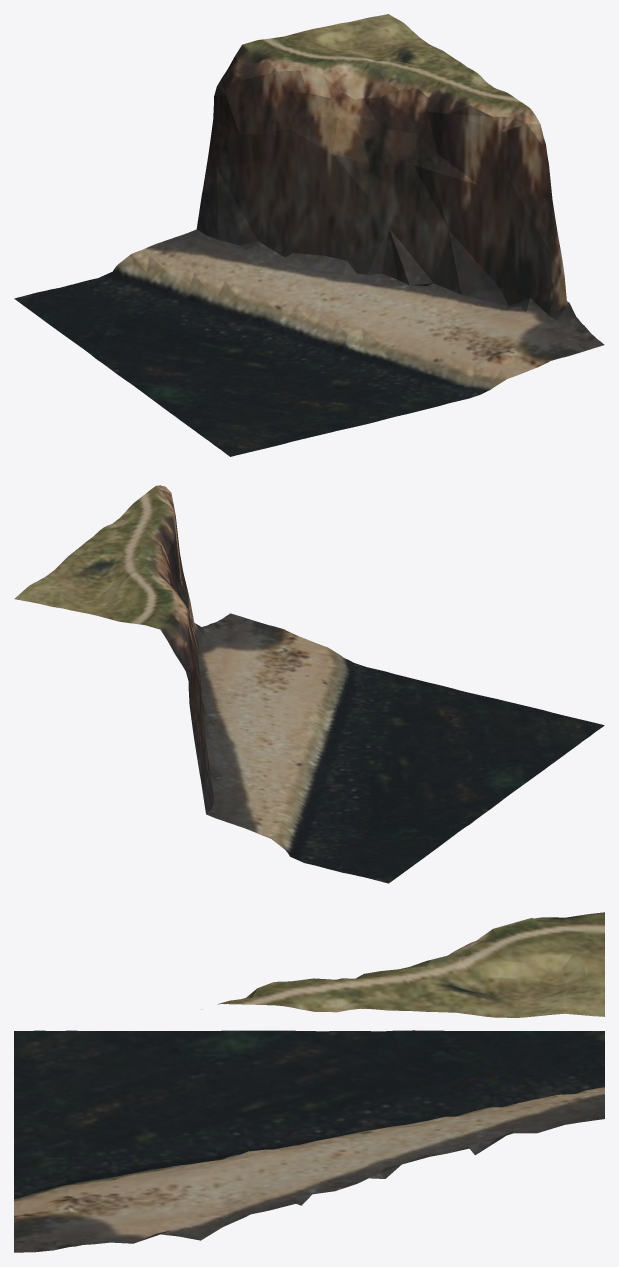
The picture shows the model from 3 angles, top to bottom: view 1: azimuth 30°, elevation 25°; view 2: azimuth 150°, elevation 25°; view 3: azimuth 270°, elevation 25°; orthographic projection. The views are drawn at different scales.
Bounding box in the file's own units: 104 × 54.2 × 104.
Materials: 3 (3 with a texture image).
